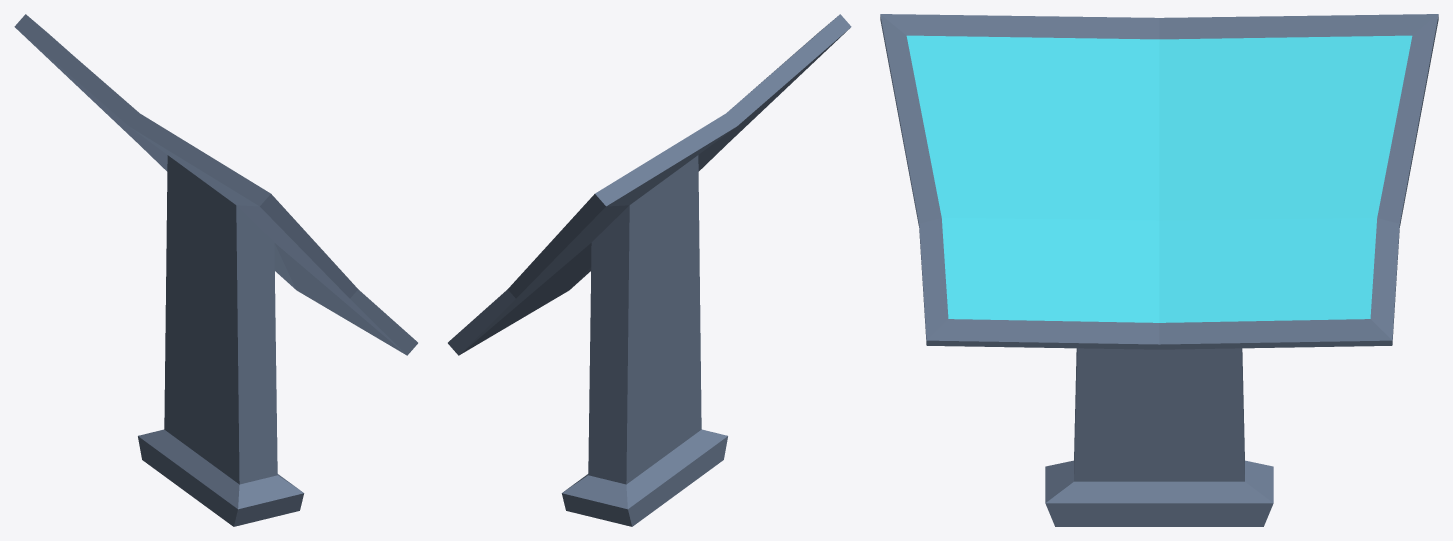
Rendered from Screen.glb.
3 views of the same model, side by side, from view 1: azimuth 30°, elevation 25°; view 2: azimuth 150°, elevation 25°; view 3: azimuth 270°, elevation 25° (orthographic). The views are drawn at different scales.
Visible parts, largest first — view 1: screen.002; view 2: screen.002; view 3: screen.002.
Boxes of the visible parts, x1,y1,x2,y2 form: screen.002: (14,14,417,526); screen.002: (448,14,851,526); screen.002: (880,14,1438,526).
Bounding box in the file's own units: 0.4578 × 0.9312 × 1.04.
1 material, 1 textured.
